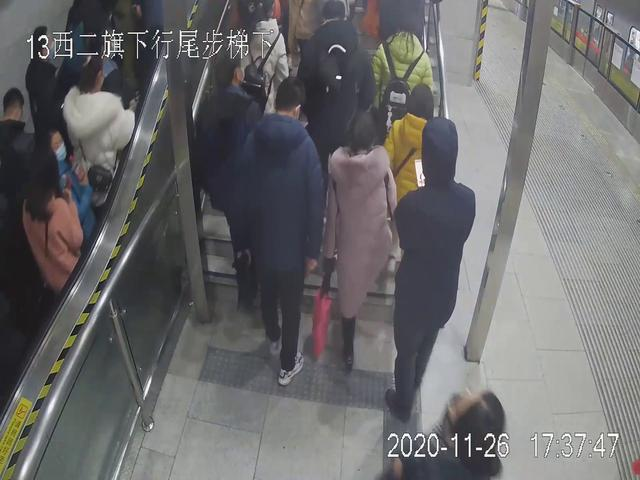person: (385, 120, 484, 409), (233, 78, 323, 390), (324, 108, 398, 373), (58, 55, 144, 203), (293, 1, 375, 154), (19, 146, 83, 333), (226, 8, 296, 150), (375, 11, 432, 141)
